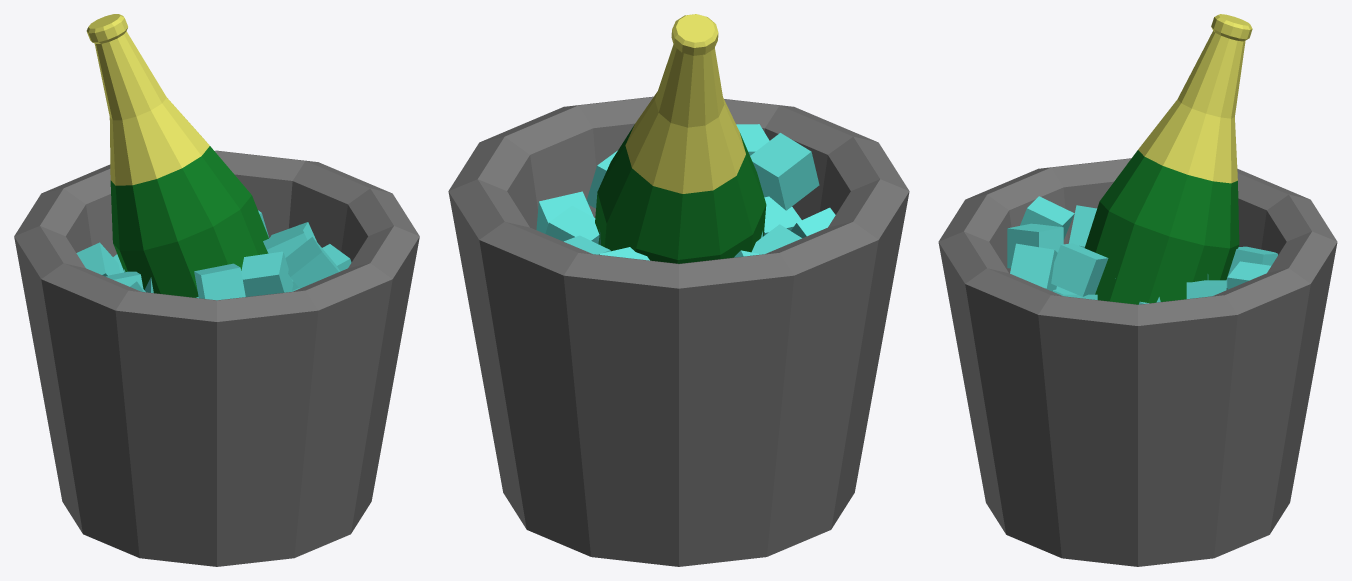
The model's file is Le_Champange.fbx.
3 views of the same model, side by side, from view 1: azimuth 30°, elevation 25°; view 2: azimuth 150°, elevation 25°; view 3: azimuth 270°, elevation 25° (orthographic). The views are drawn at different scales.
Visible parts, largest first — view 1: Cylinder.005; view 2: Cylinder.005; view 3: Cylinder.005.
Boxes of the visible parts, box(x1,y1,x2,y2) form: Cylinder.005: box(14, 14, 419, 566); Cylinder.005: box(448, 14, 909, 566); Cylinder.005: box(938, 14, 1337, 566).
Size of the model in its own units: 161 by 204 by 161.
